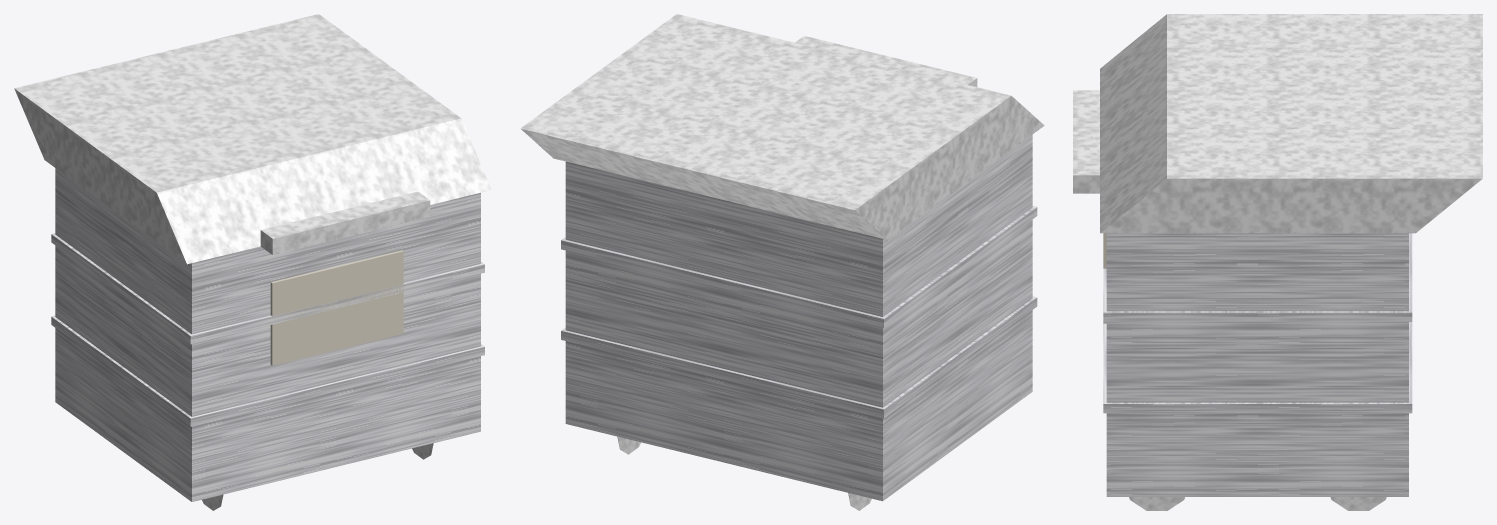
File: cassonetto.obj
3 renders of one model, left to right at view 1: azimuth 30°, elevation 25°; view 2: azimuth 150°, elevation 25°; view 3: azimuth 270°, elevation 25°, orthographic. The views are drawn at different scales.
Parts seen in each view (by area): view 1: metallo_000, gomma_002, liscio_004, metallo_001; view 2: metallo_000, gomma_002, metallo_001; view 3: gomma_002, metallo_000, metallo_001, gomma_003.
Part boxes in pixels (left/top/right/bottom): metallo_000: left=55, top=168, right=480, bottom=501; gomma_002: left=14, top=14, right=491, bottom=264; liscio_004: left=270, top=250, right=403, bottom=365; metallo_001: left=51, top=233, right=484, bottom=426; metallo_000: left=565, top=134, right=1032, bottom=501; gomma_002: left=520, top=14, right=1044, bottom=239; metallo_001: left=561, top=206, right=1037, bottom=418; gomma_002: left=1073, top=14, right=1482, bottom=233; metallo_000: left=1106, top=233, right=1408, bottom=496; metallo_001: left=1103, top=233, right=1412, bottom=413; gomma_003: left=1129, top=497, right=1386, bottom=510.
Bounding box in the file's own units: 1.16 × 1.18 × 1.22.
Materials: 5 (4 with a texture image).
